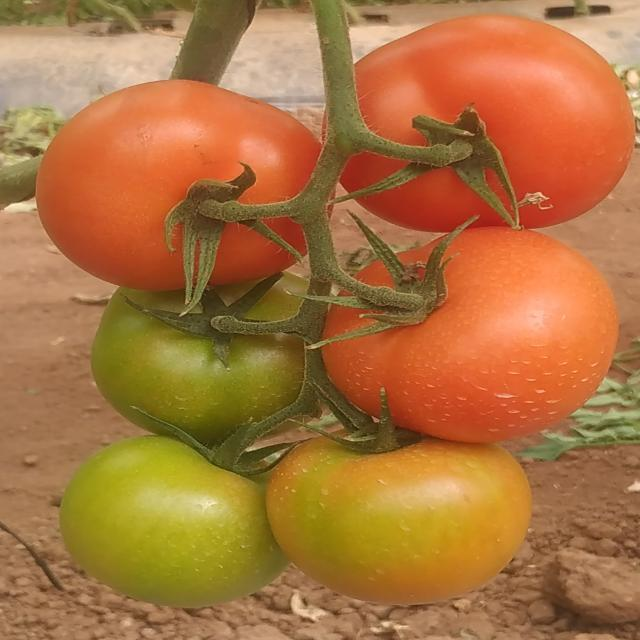Ripe Tomato: (344, 9, 636, 228), (327, 232, 611, 443), (34, 82, 318, 291)
Unripe Tomato: (269, 444, 536, 600), (61, 438, 266, 602), (90, 292, 312, 434)
